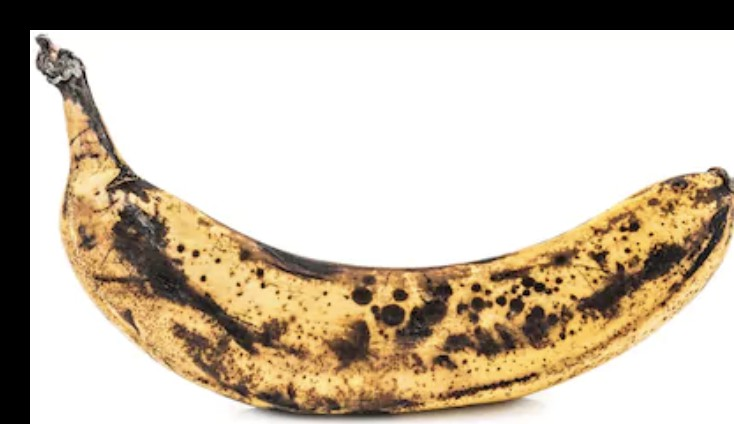rotten_banana: (35, 31, 734, 418)
